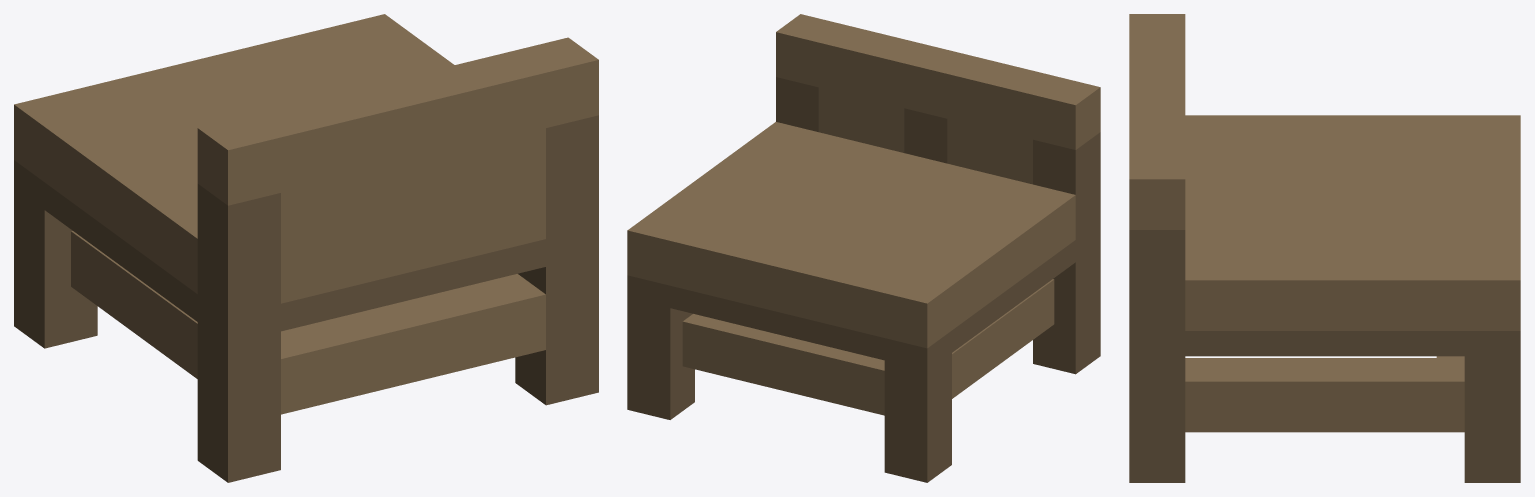
File: banco_oracion_roble_01.glb
The picture shows the model from 3 angles, left to right: view 1: azimuth 30°, elevation 25°; view 2: azimuth 150°, elevation 25°; view 3: azimuth 270°, elevation 25°; orthographic projection. The views are drawn at different scales.
Parts seen in each view (by area): view 1: banco_oracion_roble; view 2: banco_oracion_roble; view 3: banco_oracion_roble.
Part boxes in pixels (x1,y1,x2,y2): banco_oracion_roble: (14, 14, 598, 482); banco_oracion_roble: (627, 14, 1100, 482); banco_oracion_roble: (1129, 14, 1520, 482).
Size of the model in its own units: 1 by 0.8571 by 1.
